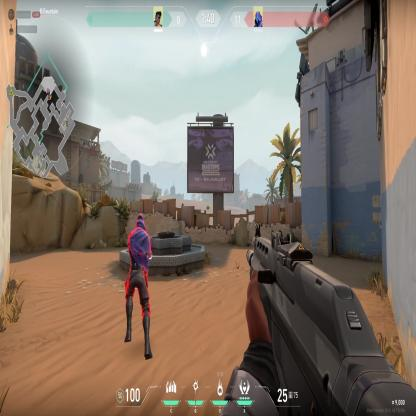enemy: (123, 211, 155, 364)
